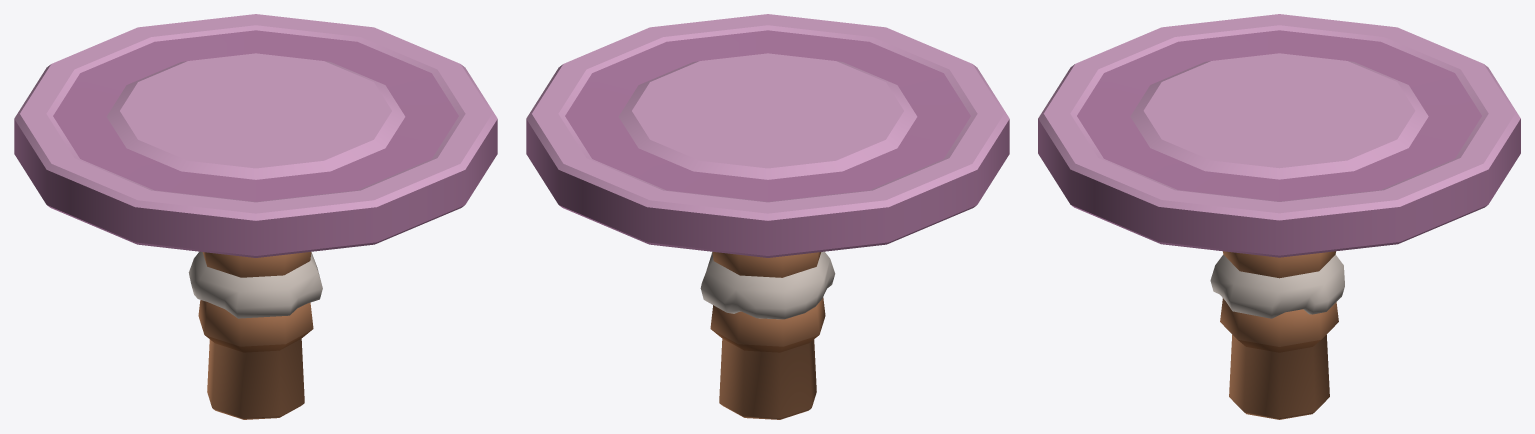
File: BarTable.fbx
3 renders of one model, left to right at view 1: azimuth 30°, elevation 25°; view 2: azimuth 150°, elevation 25°; view 3: azimuth 270°, elevation 25°, orthographic.
Parts seen in each view (by area): view 1: BarTable; view 2: BarTable; view 3: BarTable.
Boxes of the visible parts, x1,y1,x2,y2 form: BarTable: (14,14,497,419); BarTable: (526,14,1009,419); BarTable: (1038,14,1520,419).
Size of the model in its own units: 2.26 by 1.5 by 2.26.
